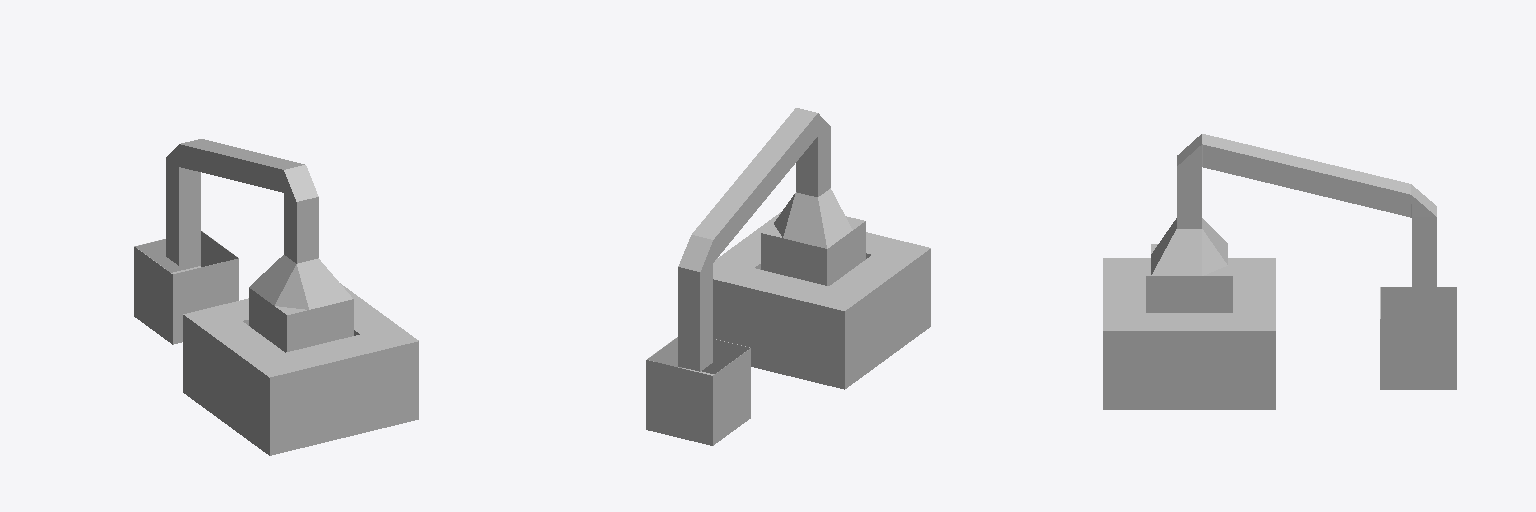
File: Destillery.obj
The picture shows the model from 3 angles: view 1: azimuth 30°, elevation 25°; view 2: azimuth 150°, elevation 25°; view 3: azimuth 270°, elevation 25°; orthographic projection.
Visible parts, largest first — view 1: Heater_Cube.001, Glas_Cube.002, Glas.001_Cube.003; view 2: Heater_Cube.001, Glas_Cube.002, Glas.001_Cube.003; view 3: Heater_Cube.001, Glas_Cube.002, Glas.001_Cube.003.
Boxes of the visible parts, <box> form: Heater_Cube.001: <box>183,283,418,455</box>; Glas_Cube.002: <box>166,139,353,352</box>; Glas.001_Cube.003: <box>134,231,238,344</box>; Heater_Cube.001: <box>713,212,930,389</box>; Glas_Cube.002: <box>678,108,865,371</box>; Glas.001_Cube.003: <box>646,337,750,445</box>; Heater_Cube.001: <box>1103,258,1275,409</box>; Glas_Cube.002: <box>1151,134,1436,316</box>; Glas.001_Cube.003: <box>1380,287,1456,389</box>.
Bounding box in the file's own units: 0.4601 × 0.6885 × 0.9418.